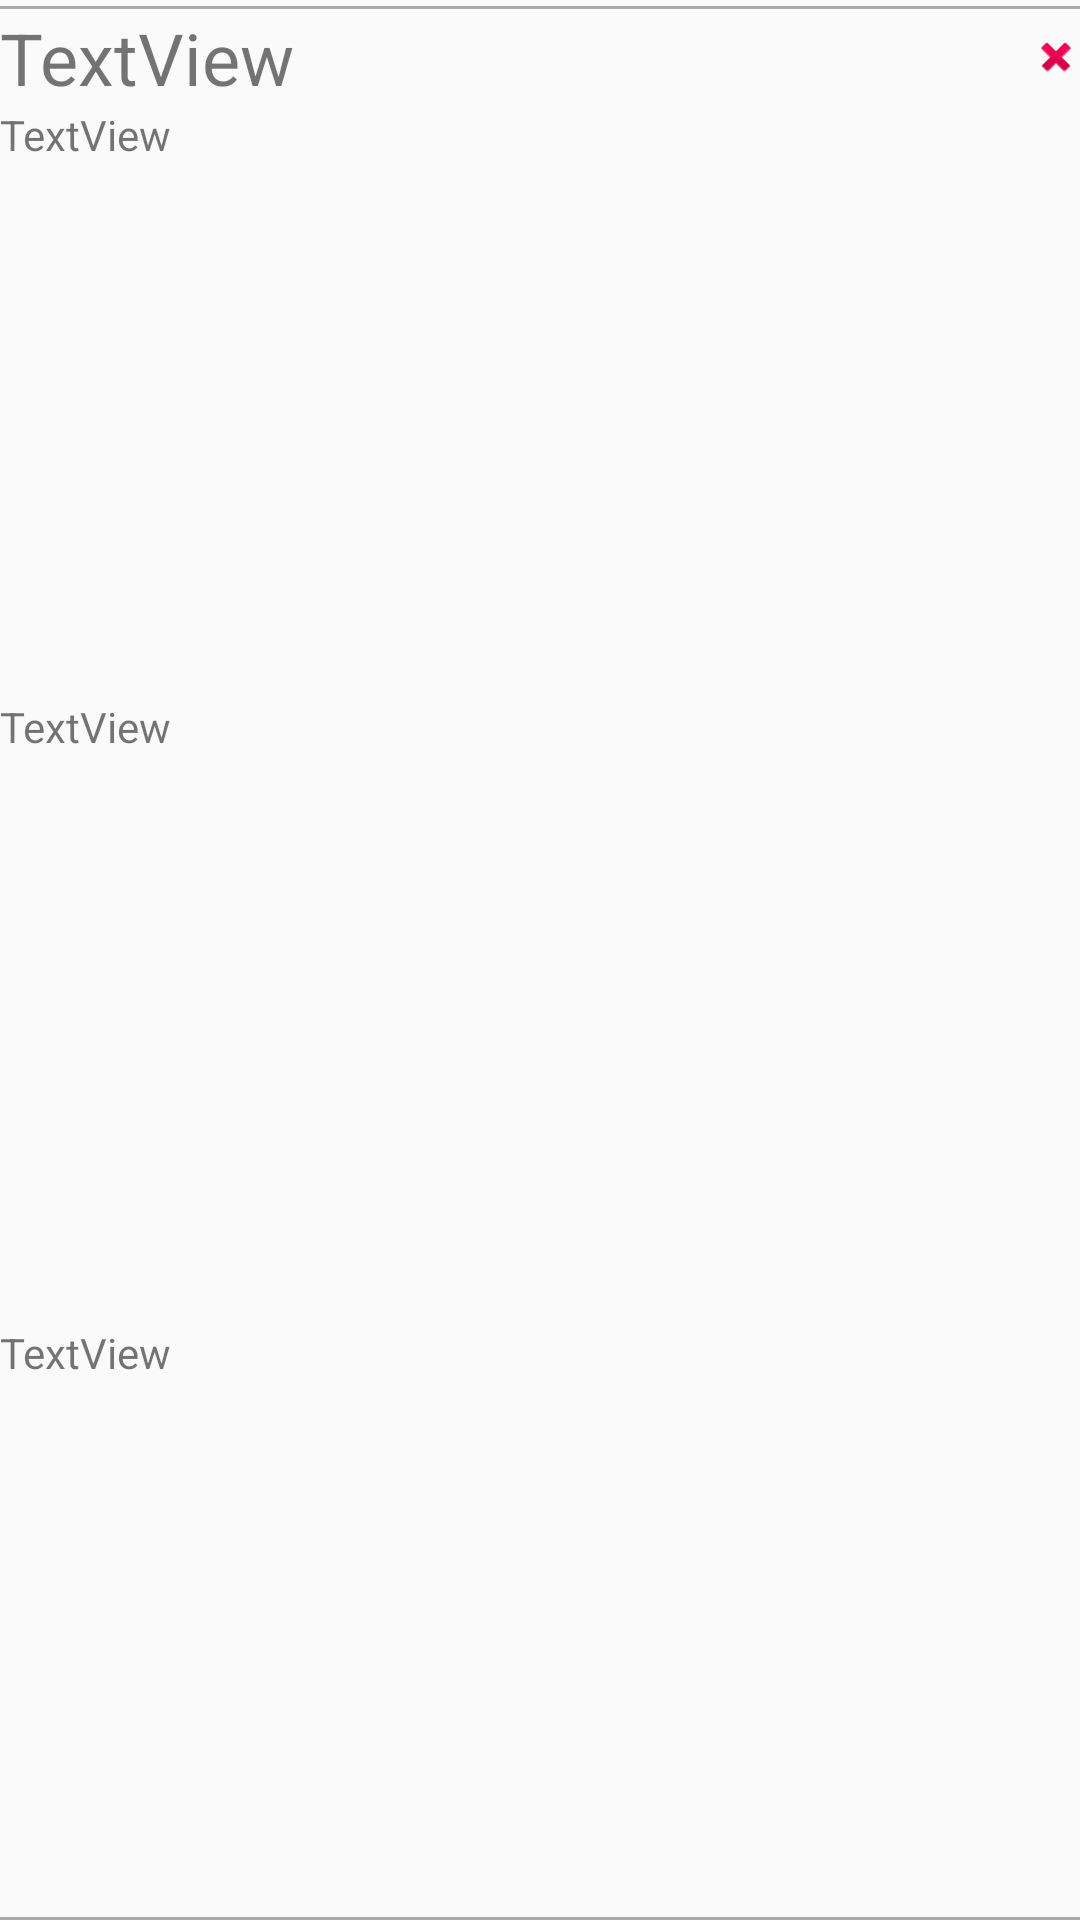

Named icons in this screenshot (1080px x 1920px) and their bounding boxes, (x1, y1, x2, y2):
delete: (1041, 42, 1071, 72)
